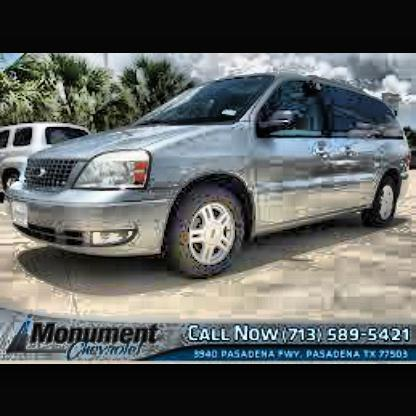Ford Freestar Minivan 2007: (6, 70, 415, 272)
